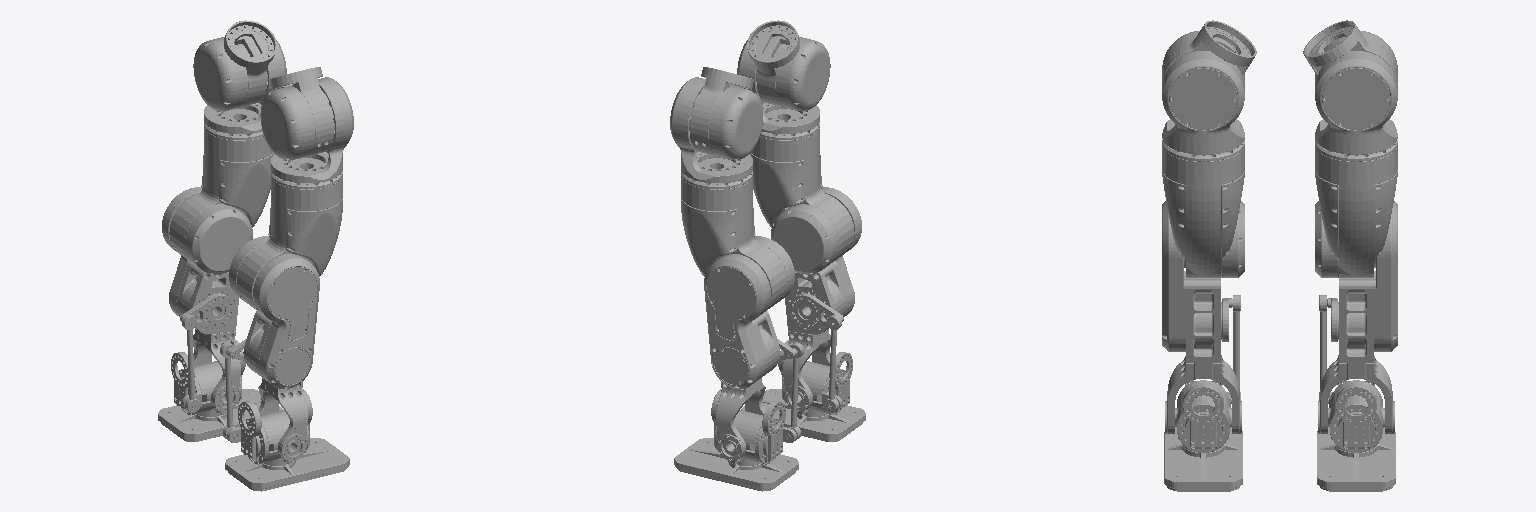
The robot description file, URDF, robot "szar_humanoid":
<?xml version="1.0"?>
<robot name="szar_humanoid">
  <material name="silver">
    <color rgba="0.700 0.700 0.700 1.000" />
  </material>
  <!--IMU-->
  <joint name="imu_fixed" type="fixed">
    <parent link="pelvis" />
    <child link="imu_link" />
    <origin rpy="0 0 0" xyz="0.03 0 0.0" />
  </joint>
  <link name="imu_link"> </link>
  <!--Camera-->
  <joint name="cam_fixed" type="fixed">
    <parent link="pelvis" />
    <child link="cam_link" />
    <origin rpy="0 0 0" xyz="0.12 -0.12 0.15" />
  </joint>
  <link name="cam_link"> </link>
  <!--Lidar-->
  <joint name="lidar_fixed" type="fixed">
    <parent link="pelvis" />
    <child link="lidar_link" />
    <origin rpy="0 0.785398 0" xyz="0.11 0 0.33" />
  </joint>
  <link name="lidar_link"> </link>
  <!-- pelvis -->
  <link name="pelvis">
    <inertial>
      <origin rpy="0 0 0" xyz="0 0 0.1307516" />
      <mass value="20.1405841" />
      <inertia ixx="0.4081654" ixy="0.0002497" ixz="0.0106921" iyy="0.3408139" iyz="0.0206224" izz="0.3030192" />
    </inertial>
    <visual>
      <origin rpy="0 0 0" xyz="0 0 0" />
      <geometry>
        <mesh filename="package://biped_description/meshes/base_link.STL" />
      </geometry>
      <material name="silver" />
    </visual>
    <collision>
      <origin rpy="0 0 0" xyz="0 0 0" />
      <geometry>
        <mesh filename="package://biped_description/meshes/base_link.STL" />
      </geometry>
    </collision>
  </link>
  <link name="left_hip_pitch_link">
    <inertial>
      <origin rpy="-3.14159265359 0.523598775598 -1.57079632679" xyz="-0.0138259 0.0348209 -0.06031157" />
      <mass value="2.8325596" />
      <inertia ixx="0.0045527" ixy="0" ixz="0" iyy="0.0054618" iyz="-0.0001478" izz="0.0040559" />
    </inertial>
    <visual>
      <origin rpy="-3.14159265359 0.523598775598 -1.57079632679" xyz="0 0 0" />
      <geometry>
        <mesh filename="package://biped_description/meshes/link_left1.STL" />
      </geometry>
      <material name="silver" />
    </visual>
    <collision>
      <origin rpy="-3.14159265359 0.523598775598 -1.57079632679" xyz="0 0 0" />
      <geometry>
        <mesh filename="package://biped_description/meshes/link_left1.STL" />
      </geometry>
    </collision>
  </link>
  <joint name="left_hip_pitch_joint" type="revolute">
    <origin rpy="0 0 0" xyz="0 0.08 0" />
    <parent link="pelvis" />
    <child link="left_hip_pitch_link" />
    <axis xyz="0 1 0" />
    <limit effort="90" lower="-1.57" upper="1.57" velocity="5.5" />
  </joint>
  <link name="left_hip_roll_link">
    <inertial>
      <origin rpy="-1.57079632679 0 1.57079632679" xyz="0.0313446 0 -0.0314303" />
      <mass value="1.0219566" />
      <inertia ixx="0.0033674" ixy="0" ixz="0" iyy="0.0021815" iyz="-0.0006631" izz="0.0038335" />
    </inertial>
    <visual>
      <origin rpy="-1.57079632679 0 1.57079632679" xyz="0 0 0" />
      <geometry>
        <mesh filename="package://biped_description/meshes/link_left2.STL" />
      </geometry>
      <material name="silver" />
    </visual>
    <collision>
      <origin rpy="-1.57079632679 0 1.57079632679" xyz="0 0 0" />
      <geometry>
        <mesh filename="package://biped_description/meshes/link_left2.STL" />
      </geometry>
    </collision>
  </link>
  <joint name="left_hip_roll_joint" type="revolute">
    <origin rpy="0 0 0" xyz="0 0.0365 -0.0632" />
    <parent link="left_hip_pitch_link" />
    <child link="left_hip_roll_link" />
    <axis xyz="-1 0 0" />
    <limit effort="90" lower="-1.04" upper="0.28" velocity="5.5" />
  </joint>
  <link name="left_hip_yaw_link">
    <inertial>
      <origin rpy="-3.14159265359 0 0" xyz="-0.0280204 -0.0035858 -0.1244663" />
      <mass value="6.2653053" />
      <inertia ixx="0.0449932" ixy="0.0008361" ixz="0.0136355" iyy="0.0526005" iyz="-0.0017692" izz="0.0169651" />
    </inertial>
    <visual>
      <origin rpy="-3.14159265359 0 0" xyz="0 0 0" />
      <geometry>
        <mesh filename="package://biped_description/meshes/link_left3.STL" />
      </geometry>
      <material name="silver" />
    </visual>
    <collision>
      <origin rpy="-3.14159265359 0 0" xyz="0 0 0" />
      <geometry>
        <mesh filename="package://biped_description/meshes/link_left3.STL" />
      </geometry>
    </collision>
  </link>
  <joint name="left_hip_yaw_joint" type="revolute">
    <origin rpy="0 0 0" xyz="0.0001 0 -0.09" />
    <parent link="left_hip_roll_link" />
    <child link="left_hip_yaw_link" />
    <axis xyz="0 0 -1" />
    <limit effort="90" lower="-1.57" upper="1.57" velocity="5.5" />
  </joint>
  <link name="left_knee_link">
    <inertial>
      <origin rpy="-1.57079632679 1.57079632679 0" xyz="0.0034369 0.0135721 -0.1219576" />
      <mass value="3.2511929" />
      <inertia ixx="0.0060524" ixy="-0.0001583" ixz="0.0037542" iyy="0.0229265" iyz="0.0004351" izz="0.0223457" />
    </inertial>
    <visual>
      <origin rpy="-1.57079632679 1.57079632679 0" xyz="0 0 0" />
      <geometry>
        <mesh filename="package://biped_description/meshes/link_left4.STL" />
      </geometry>
      <material name="silver" />
    </visual>
    <collision>
      <origin rpy="-1.57079632679 1.57079632679 0" xyz="0 0 0" />
      <geometry>
        <mesh filename="package://biped_description/meshes/link_left4.STL" />
      </geometry>
    </collision>
  </link>
  <joint name="left_knee_joint" type="revolute">
    <origin rpy="0 0 0" xyz="-0.065 0 -0.20287" />
    <parent link="left_hip_yaw_link" />
    <child link="left_knee_link" />
    <axis xyz="0 1 0" />
    <limit effort="90" lower="0" upper="2.478" velocity="5.5" />
  </joint>
  <link name="left_ankle_pitch_link">
    <inertial>
      <origin rpy="-1.57079632679 1.57079632679 0" xyz="-0.0008962 -0.0006003 0" />
      <mass value="1.1728796" />
      <inertia ixx="0.0014199" ixy="0" ixz="0" iyy="0.0010712" iyz="0.0000426" izz="0.0013587" />
    </inertial>
    <visual>
      <origin rpy="-1.57079632679 1.57079632679 0" xyz="0 0 0" />
      <geometry>
        <mesh filename="package://biped_description/meshes/link_left5.STL" />
      </geometry>
      <material name="silver" />
    </visual>
    <collision>
      <origin rpy="-1.57079632679 1.57079632679 0" xyz="0 0 0" />
      <geometry>
        <mesh filename="package://biped_description/meshes/link_left5.STL" />
      </geometry>
    </collision>
  </link>
  <joint name="left_ankle_pitch_joint" type="revolute">
    <origin rpy="0 0 0" xyz="0.0060478 0 -0.29994" />
    <parent link="left_knee_link" />
    <child link="left_ankle_pitch_link" />
    <axis xyz="0 1 0" />
    <limit effort="30" lower="-1.24" upper="0.96" velocity="3.5" />
  </joint>
  <link name="left_ankle_roll_link">
    <inertial>
      <origin rpy="-1.57079632679 1.57079632679 0" xyz="0.0141771 0 -0.0472801" />
      <mass value="1.4853380" />
      <inertia ixx="0.0054530" ixy="0.0003473" ixz="0" iyy="0.0024121" iyz="0" izz="0.0052193" />
    </inertial>
    <visual>
      <origin rpy="-1.57079632679 1.57079632679 0" xyz="0 0 0.045" />
      <geometry>
        <mesh filename="package://biped_description/meshes/link_left6.STL" />
      </geometry>
      <material name="silver" />
    </visual>
    <collision>
      <origin rpy="-1.57079632679 1.57079632679 0" xyz="0 0 0.045" />
      <geometry>
        <mesh filename="package://biped_description/meshes/link_left6.STL" />
      </geometry>
    </collision>
  </link>
  <joint name="left_ankle_roll_joint" type="revolute">
    <origin rpy="0 0 0" xyz="0 0 0" />
    <parent link="left_ankle_pitch_link" />
    <child link="left_ankle_roll_link" />
    <axis xyz="-1 0 0" />
    <limit effort="30" lower="-0.7" upper="0.7" velocity="3.5" />
  </joint>
  <link name="right_hip_pitch_link">
    <inertial>
      <origin rpy="0 0.523598775598 1.57079632679" xyz="-0.0138258 -0.0348209 -0.06031157" />
      <mass value="2.8325578" />
      <inertia ixx="0.0045527" ixy="0" ixz="0" iyy="0.0054618" iyz="0.0001478" izz="0.0040559" />
    </inertial>
    <visual>
      <origin rpy="0 0.523598775598 1.57079632679" xyz="0 0 0" />
      <geometry>
        <mesh filename="package://biped_description/meshes/link_right1.STL" />
      </geometry>
      <material name="silver" />
    </visual>
    <collision>
      <origin rpy="0 0.523598775598 1.57079632679" xyz="0 0 0" />
      <geometry>
        <mesh filename="package://biped_description/meshes/link_right1.STL" />
      </geometry>
    </collision>
  </link>
  <joint name="right_hip_pitch_joint" type="revolute">
    <origin rpy="0 0 0" xyz="0 -0.08 0" />
    <parent link="pelvis" />
    <child link="right_hip_pitch_link" />
    <axis xyz="0 1 0" />
    <limit effort="90" lower="-1.57" upper="1.57" velocity="5.5" />
  </joint>
  <link name="right_hip_roll_link">
    <inertial>
      <origin rpy="-1.57079632679 0 1.57079632679" xyz="0.0313447 0 -0.0314303" />
      <mass value="1.0219568" />
      <inertia ixx="0.0033674" ixy="0" ixz="0" iyy="0.0021815" iyz="-0.0006631" izz="0.0038335" />
    </inertial>
    <visual>
      <origin rpy="-1.57079632679 0 1.57079632679" xyz="0 0 0" />
      <geometry>
        <mesh filename="package://biped_description/meshes/link_right2.STL" />
      </geometry>
      <material name="silver" />
    </visual>
    <collision>
      <origin rpy="-1.57079632679 0 1.57079632679" xyz="0 0 0" />
      <geometry>
        <mesh filename="package://biped_description/meshes/link_right2.STL" />
      </geometry>
    </collision>
  </link>
  <joint name="right_hip_roll_joint" type="revolute">
    <origin rpy="0 0 0" xyz="0 -0.0365 -0.0632" />
    <parent link="right_hip_pitch_link" />
    <child link="right_hip_roll_link" />
    <axis xyz="-1 0 0" />
    <limit effort="90" lower="-0.28" upper="1.04" velocity="5.5" />
  </joint>
  <link name="right_hip_yaw_link">
    <inertial>
      <origin rpy="-3.14159265359 0 0" xyz="-0.0280205 0.0035858 -0.1244664" />
      <mass value="6.2653080" />
      <inertia ixx="0.0449932" ixy="-0.0008361" ixz="0.0136355" iyy="0.0526005" iyz="0.0017694" izz="0.0169651" />
    </inertial>
    <visual>
      <origin rpy="-3.14159265359 0 0" xyz="0 0 0" />
      <geometry>
        <mesh filename="package://biped_description/meshes/link_right3.STL" />
      </geometry>
      <material name="silver" />
    </visual>
    <collision>
      <origin rpy="-3.14159265359 0 0" xyz="0 0 0" />
      <geometry>
        <mesh filename="package://biped_description/meshes/link_right3.STL" />
      </geometry>
    </collision>
  </link>
  <joint name="right_hip_yaw_joint" type="revolute">
    <origin rpy="0 0 0" xyz="0.0001 0 -0.09" />
    <parent link="right_hip_roll_link" />
    <child link="right_hip_yaw_link" />
    <axis xyz="0 0 -1" />
    <limit effort="90" lower="-1.57" upper="1.57" velocity="5.5" />
  </joint>
  <link name="right_knee_link">
    <inertial>
      <origin rpy="-1.57079632679 1.57079632679 0" xyz="0.0034369 -0.0135721 -0.1219575" />
      <mass value="3.2511925" />
      <inertia ixx="0.0060524" ixy="-0.0001583" ixz="-0.0037542" iyy="0.0229265" iyz="-0.0004351" izz="0.0223457" />
    </inertial>
    <visual>
      <origin rpy="-1.57079632679 1.57079632679 0" xyz="0 0 0" />
      <geometry>
        <mesh filename="package://biped_description/meshes/link_right4.STL" />
      </geometry>
      <material name="silver" />
    </visual>
    <collision>
      <origin rpy="-1.57079632679 1.57079632679 0" xyz="0 0 0" />
      <geometry>
        <mesh filename="package://biped_description/meshes/link_right4.STL" />
      </geometry>
    </collision>
  </link>
  <joint name="right_knee_joint" type="revolute">
    <origin rpy="0 0 0" xyz="-0.065 0 -0.20287" />
    <parent link="right_hip_yaw_link" />
    <child link="right_knee_link" />
    <axis xyz="0 1 0" />
    <limit effort="90" lower="0" upper="2.478" velocity="5.5" />
  </joint>
  <link name="right_ankle_pitch_link">
    <inertial>
      <origin rpy="-1.57079632679 1.57079632679 0" xyz="-0.0010016 0.0006079 0" />
      <mass value="1.1585455" />
      <inertia ixx="0.0014083" ixy="0" ixz="0" iyy="0.0010622" iyz="-0.0000425" izz="0.0013471" />
    </inertial>
    <visual>
      <origin rpy="-1.57079632679 1.57079632679 0" xyz="0 0 0" />
      <geometry>
        <mesh filename="package://biped_description/meshes/link_right5.STL" />
      </geometry>
      <material name="silver" />
    </visual>
    <collision>
      <origin rpy="-1.57079632679 1.57079632679 0" xyz="0 0 0" />
      <geometry>
        <mesh filename="package://biped_description/meshes/link_right5.STL" />
      </geometry>
    </collision>
  </link>
  <joint name="right_ankle_pitch_joint" type="revolute">
    <origin rpy="0 0 0" xyz="0.0060478 0 -0.29994" />
    <parent link="right_knee_link" />
    <child link="right_ankle_pitch_link" />
    <axis xyz="0 1 0" />
    <limit effort="30" lower="-1.24" upper="0.96" velocity="3.5" />
  </joint>
  <link name="right_ankle_roll_link">
    <inertial>
      <origin rpy="-1.57079632679 1.57079632679 0" xyz="0.0141771 0 -0.0472801" />
      <mass value="1.4853380" />
      <inertia ixx="0.0054530" ixy="0.0003473" ixz="0" iyy="0.0024121" iyz="0" izz="0.0052193" />
    </inertial>
    <visual>
      <origin rpy="-1.57079632679 1.57079632679 0" xyz="0 0 0.045" />
      <geometry>
        <mesh filename="package://biped_description/meshes/link_right6.STL" />
      </geometry>
      <material name="silver" />
    </visual>
    <collision>
      <origin rpy="-1.57079632679 1.57079632679 0" xyz="0 0 0.045" />
      <geometry>
        <mesh filename="package://biped_description/meshes/link_right6.STL" />
      </geometry>
    </collision>
  </link>
  <joint name="right_ankle_roll_joint" type="revolute">
    <origin rpy="0 0 0" xyz="0 0 0" />
    <parent link="right_ankle_pitch_link" />
    <child link="right_ankle_roll_link" />
    <axis xyz="-1 0 0" />
    <limit effort="30" lower="-0.7" upper="0.7" velocity="3.5" />
  </joint>
  <!-- OCS2 3-DoF contact frame. Keep this name synchronized with task.info. -->
  <link name="left_foot" />
  <joint name="left_foot_fixed_joint" type="fixed">
    <origin rpy="0 0 0" xyz="0.02 0 -0.07" />
    <parent link="left_ankle_roll_link" />
    <child link="left_foot" />
  </joint>
  <!-- OCS2 3-DoF contact frame. Keep this name synchronized with task.info. -->
  <link name="right_foot" />
  <joint name="right_foot_fixed_joint" type="fixed">
    <origin rpy="0 0 0" xyz="0.02 0 -0.07" />
    <parent link="right_ankle_roll_link" />
    <child link="right_foot" />
  </joint>
  <ros2_control name="BipedMuJoCoSystem" type="system">
    <hardware>
      <plugin>mujoco_ros2_control/MujocoSystemInterface</plugin>
      <param name="mujoco_model">biped.xml</param>
      <param name="headless">false</param>
      <param name="odom_free_joint_name">floating_base_joint</param>
      <param name="odom_topic">/simulator/floating_base_state</param>
      <param name="initial_keyframe">standing</param>
    </hardware>
    <joint name="left_hip_pitch_joint">
      <command_interface name="effort"/>
      <state_interface name="position"/>
      <state_interface name="velocity"/>
      <state_interface name="effort"/>
    </joint>
    <joint name="left_hip_roll_joint">
      <command_interface name="effort"/>
      <state_interface name="position"/>
      <state_interface name="velocity"/>
      <state_interface name="effort"/>
    </joint>
    <joint name="left_hip_yaw_joint">
      <command_interface name="effort"/>
      <state_interface name="position"/>
      <state_interface name="velocity"/>
      <state_interface name="effort"/>
    </joint>
    <joint name="left_knee_joint">
      <command_interface name="effort"/>
      <state_interface name="position"/>
      <state_interface name="velocity"/>
      <state_interface name="effort"/>
    </joint>
    <joint name="left_ankle_pitch_joint">
      <command_interface name="effort"/>
      <state_interface name="position"/>
      <state_interface name="velocity"/>
      <state_interface name="effort"/>
    </joint>
    <joint name="left_ankle_roll_joint">
      <command_interface name="effort"/>
      <state_interface name="position"/>
      <state_interface name="velocity"/>
      <state_interface name="effort"/>
    </joint>
    <joint name="right_hip_pitch_joint">
      <command_interface name="effort"/>
      <state_interface name="position"/>
      <state_interface name="velocity"/>
      <state_interface name="effort"/>
    </joint>
    <joint name="right_hip_roll_joint">
      <command_interface name="effort"/>
      <state_interface name="position"/>
      <state_interface name="velocity"/>
      <state_interface name="effort"/>
    </joint>
    <joint name="right_hip_yaw_joint">
      <command_interface name="effort"/>
      <state_interface name="position"/>
      <state_interface name="velocity"/>
      <state_interface name="effort"/>
    </joint>
    <joint name="right_knee_joint">
      <command_interface name="effort"/>
      <state_interface name="position"/>
      <state_interface name="velocity"/>
      <state_interface name="effort"/>
    </joint>
    <joint name="right_ankle_pitch_joint">
      <command_interface name="effort"/>
      <state_interface name="position"/>
      <state_interface name="velocity"/>
      <state_interface name="effort"/>
    </joint>
    <joint name="right_ankle_roll_joint">
      <command_interface name="effort"/>
      <state_interface name="position"/>
      <state_interface name="velocity"/>
      <state_interface name="effort"/>
    </joint>
  </ros2_control>
</robot>

--- Facts derived from the render (not from the file) ---
The picture shows the robot from 3 angles, left to right: view 1: azimuth 30°, elevation 25°; view 2: azimuth 150°, elevation 25°; view 3: azimuth 270°, elevation 25°; orthographic projection.
Model szar_humanoid with 18 links and 17 joints (12 revolute, 5 fixed), rooted at pelvis, posed all joints at 0.
Links seen in each view (by area): view 1: right_knee_link, left_hip_yaw_link, right_hip_yaw_link, left_knee_link, left_hip_pitch_link, right_hip_pitch_link, right_ankle_roll_link, left_ankle_roll_link, right_hip_roll_link, right_ankle_pitch_link, left_hip_roll_link, left_ankle_pitch_link; view 2: left_knee_link, right_hip_yaw_link, left_hip_yaw_link, right_knee_link, right_hip_pitch_link, left_hip_pitch_link, left_ankle_roll_link, right_ankle_roll_link, left_hip_roll_link, left_ankle_pitch_link, right_hip_roll_link, right_ankle_pitch_link; view 3: left_hip_yaw_link, right_hip_yaw_link, right_knee_link, left_knee_link, right_hip_roll_link, left_hip_roll_link, left_ankle_roll_link, right_ankle_roll_link, left_hip_pitch_link, right_hip_pitch_link, left_ankle_pitch_link, right_ankle_pitch_link.
Boxes of the visible links, bbox=[...] form: right_knee_link: bbox=[220, 254, 319, 460]; left_hip_yaw_link: bbox=[169, 109, 273, 274]; right_hip_yaw_link: bbox=[229, 158, 342, 311]; left_knee_link: bbox=[162, 187, 240, 412]; left_hip_pitch_link: bbox=[193, 20, 276, 110]; right_hip_pitch_link: bbox=[261, 67, 333, 159]; right_ankle_roll_link: bbox=[225, 389, 349, 491]; left_ankle_roll_link: bbox=[158, 340, 282, 441]; right_hip_roll_link: bbox=[271, 77, 353, 182]; right_ankle_pitch_link: bbox=[227, 410, 308, 464]; left_hip_roll_link: bbox=[204, 40, 286, 133]; left_ankle_pitch_link: bbox=[179, 361, 241, 414]; left_knee_link: bbox=[704, 254, 803, 460]; right_hip_yaw_link: bbox=[750, 109, 854, 274]; left_hip_yaw_link: bbox=[681, 158, 794, 311]; right_knee_link: bbox=[783, 187, 861, 412]; right_hip_pitch_link: bbox=[747, 20, 830, 110]; left_hip_pitch_link: bbox=[690, 67, 762, 159]; left_ankle_roll_link: bbox=[674, 389, 798, 491]; right_ankle_roll_link: bbox=[741, 340, 865, 441]; left_hip_roll_link: bbox=[670, 77, 752, 182]; left_ankle_pitch_link: bbox=[715, 410, 796, 464]; right_hip_roll_link: bbox=[737, 40, 819, 133]; right_ankle_pitch_link: bbox=[782, 361, 844, 414]; left_hip_yaw_link: bbox=[1315, 139, 1397, 277]; right_hip_yaw_link: bbox=[1162, 139, 1244, 277]; right_knee_link: bbox=[1162, 201, 1241, 433]; left_knee_link: bbox=[1318, 201, 1397, 433]; right_hip_roll_link: bbox=[1162, 51, 1244, 154]; left_hip_roll_link: bbox=[1315, 51, 1397, 154]; left_ankle_roll_link: bbox=[1317, 380, 1395, 491]; right_ankle_roll_link: bbox=[1164, 380, 1242, 491]; left_hip_pitch_link: bbox=[1303, 20, 1397, 83]; right_hip_pitch_link: bbox=[1162, 20, 1256, 83]; left_ankle_pitch_link: bbox=[1328, 380, 1384, 452]; right_ankle_pitch_link: bbox=[1175, 380, 1231, 452].
Bounding box of the posed robot: 0.206 × 0.359 × 0.7574 m (x, y, z).
12 mesh visuals loaded from 13 distinct referenced files (12 binary STL); not drawn: 1 (reference not matched to a file when rendering).
